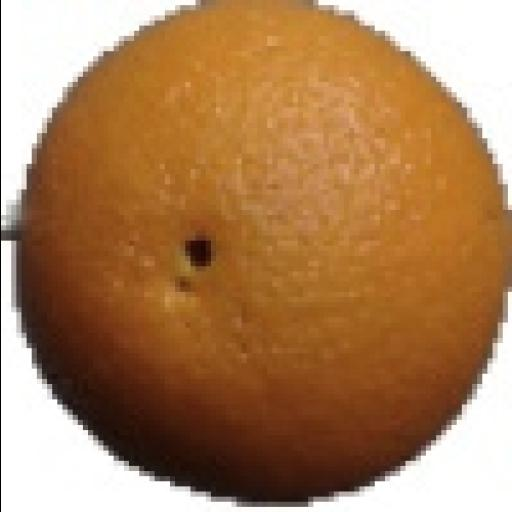orange: (21, 6, 501, 501)
